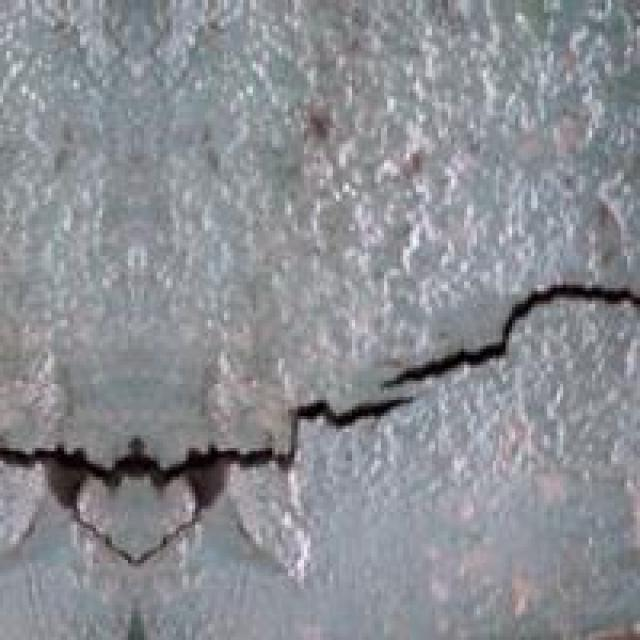crack: (3, 247, 637, 582)
